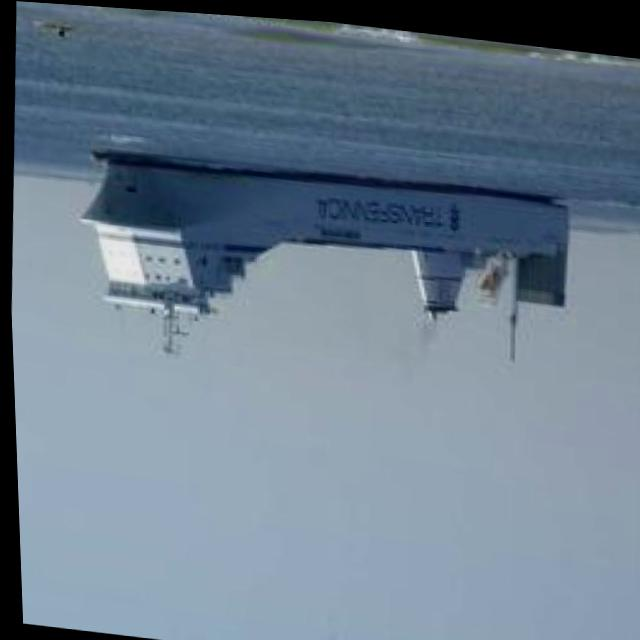ship2: (78, 149, 571, 354)
